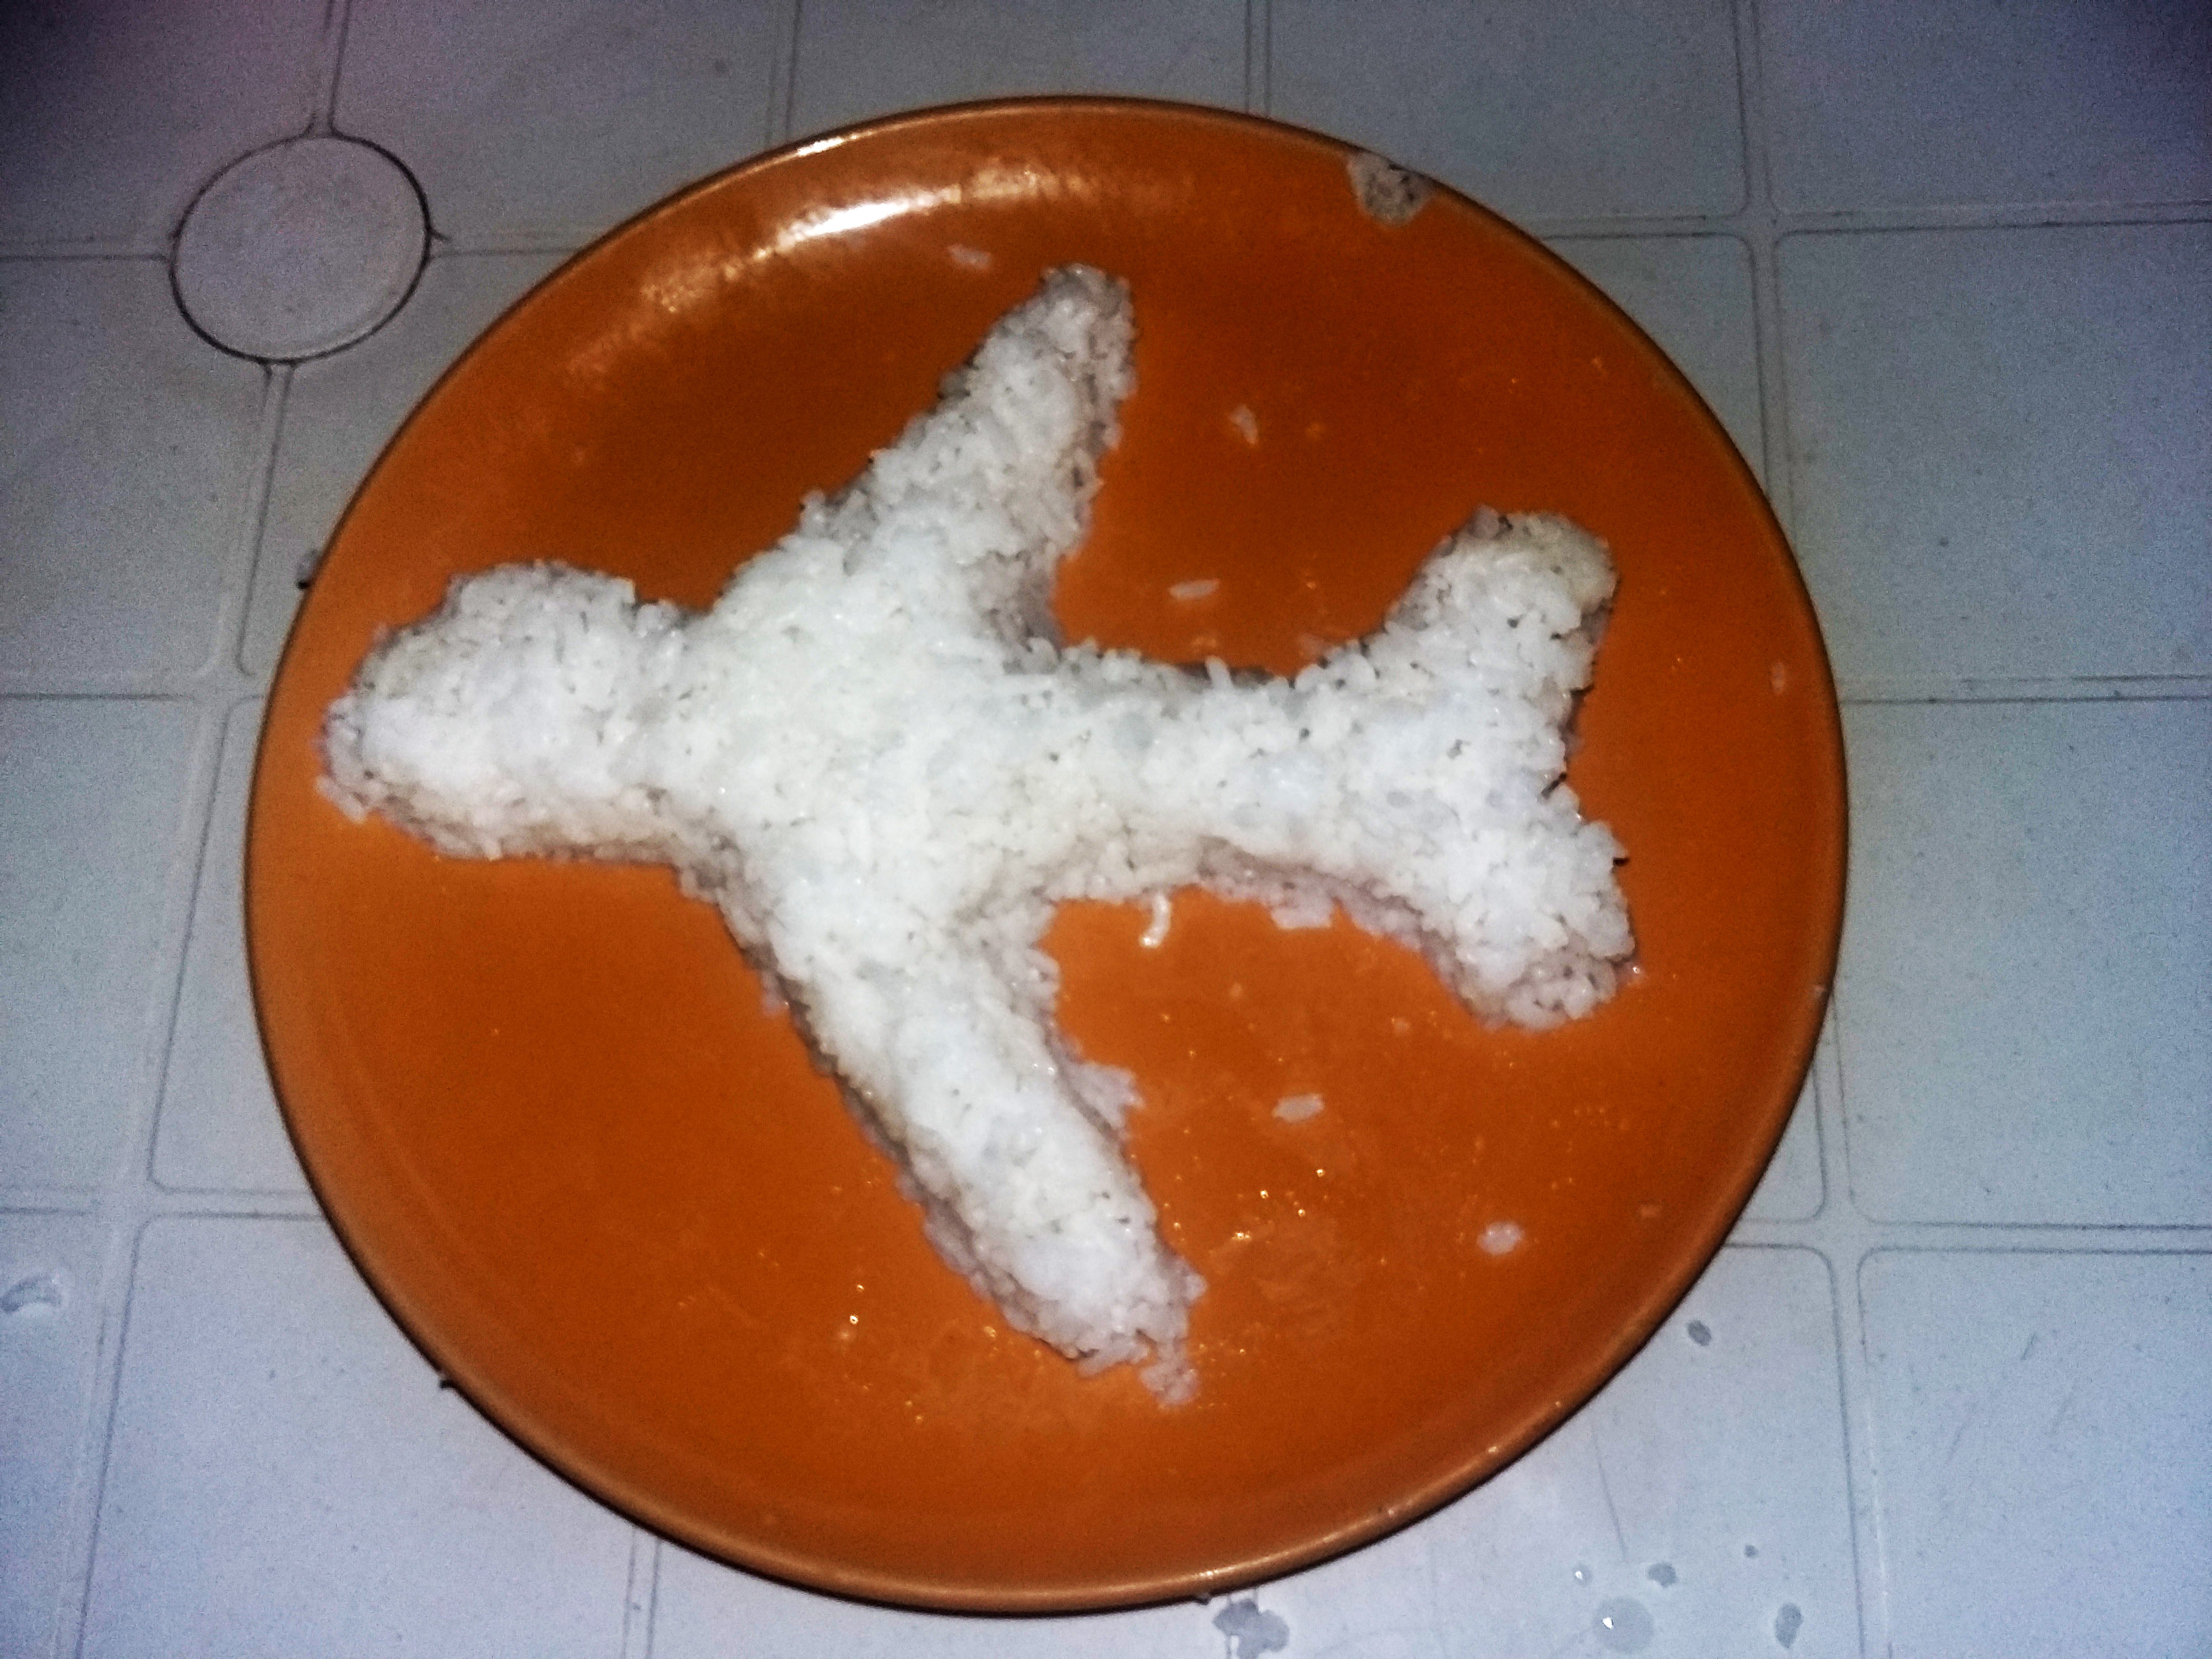plain rice: (359, 584, 1005, 823), (1029, 674, 1547, 866)
